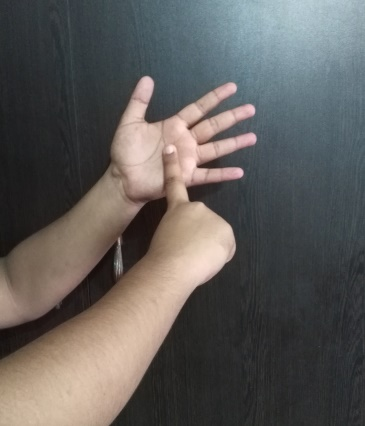oo: (111, 76, 258, 271)
